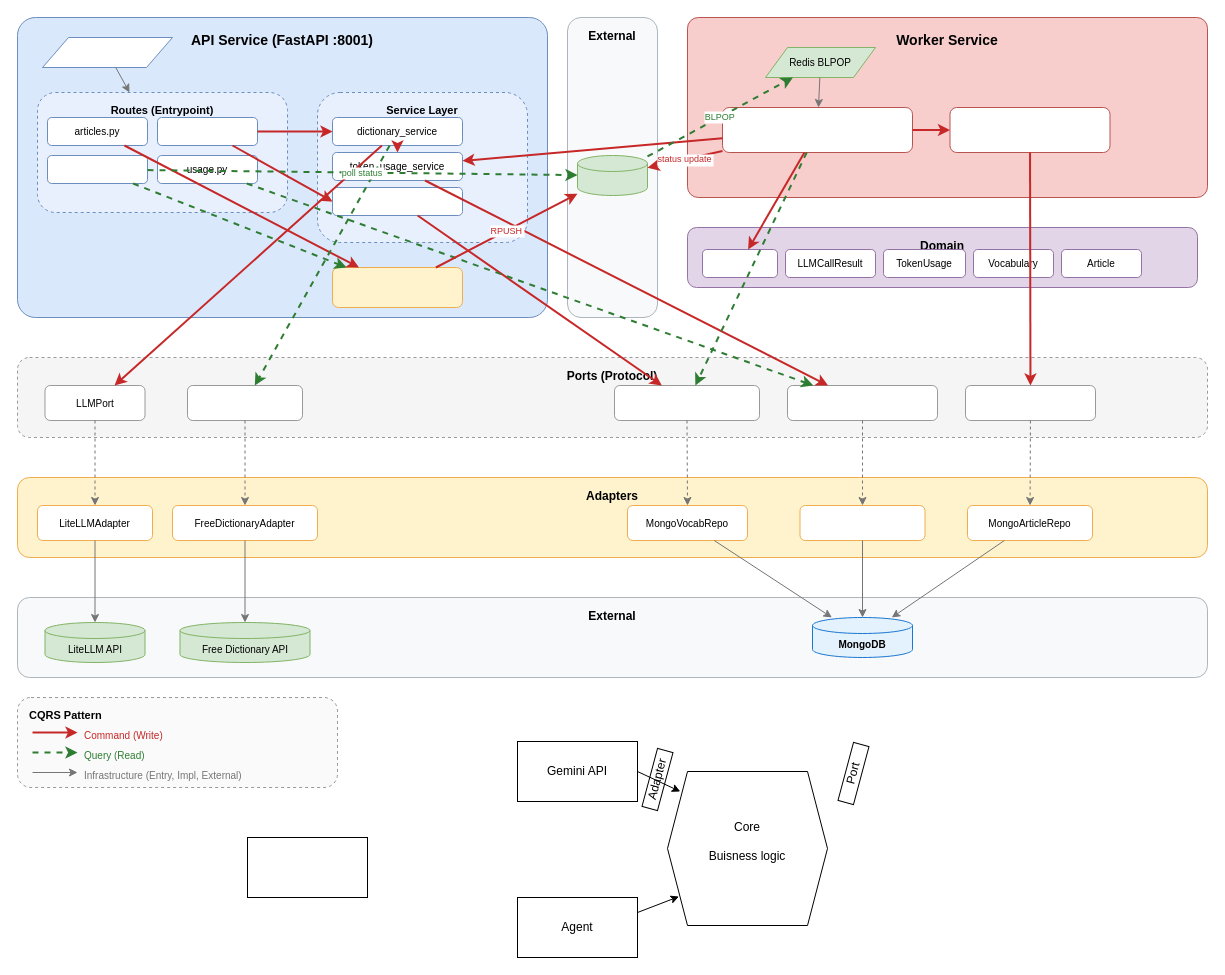
This 1225x975 diagram has some shape labels left out. The centre of each missing label's shape, as x and y in pixels:
"ArticleRepository" belongs at point (1030, 402).
"CEFRLevel" belongs at point (740, 263).
"CrewAI Pipeline" belongs at point (1029, 129).
"dictionary.py" belongs at point (207, 131).
"DictionaryPort" belongs at point (244, 402).
"HTTP Request" belongs at point (107, 52).
"job_queue" belongs at point (397, 287).
"jobs.py" belongs at point (97, 169).
"MongoTokenRepo" belongs at point (862, 522).
"OpenAI API" belongs at point (307, 867).
"processor.py (Entrypoint)" belongs at point (817, 129).
"Redis" belongs at point (612, 175).
"TokenUsageRepository" belongs at point (862, 402).
"vocabulary_service" belongs at point (397, 201).
"VocabularyRepository" belongs at point (687, 402).
